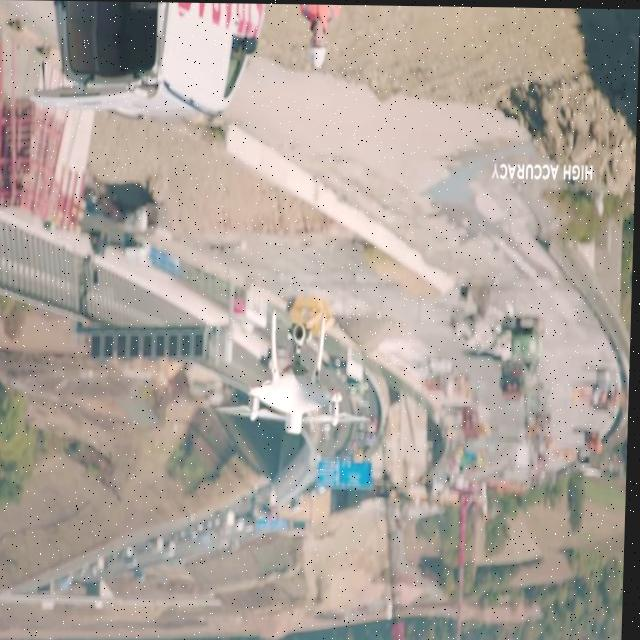drone: (216, 306, 372, 435)
